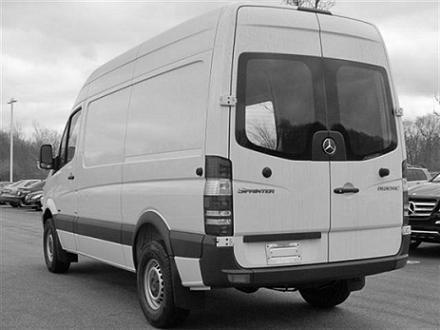car: (38, 3, 418, 328)
